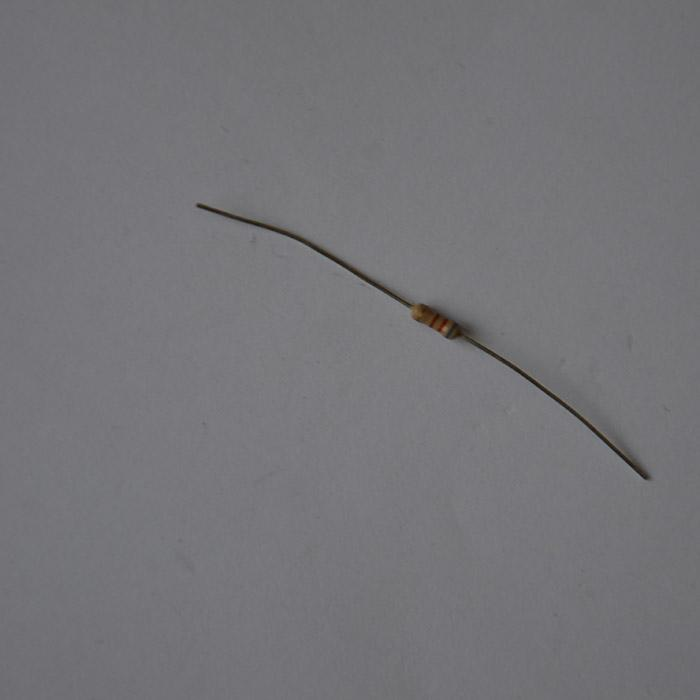resistor: (411, 302, 460, 340)
